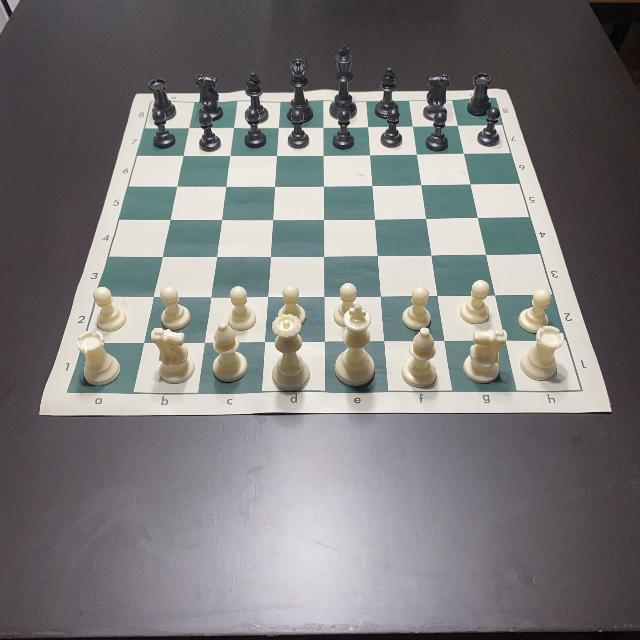black-bishop: (374, 66, 400, 118), (244, 73, 268, 123)
black-king: (328, 44, 358, 120)
black-knight: (194, 73, 224, 121), (422, 72, 450, 121)
black-pawn: (150, 110, 176, 148), (476, 108, 502, 146), (331, 110, 355, 150), (196, 114, 220, 152), (286, 110, 310, 148), (244, 107, 266, 147), (381, 110, 404, 148), (427, 112, 448, 150)
black-queen: (286, 57, 312, 121)
black-rook: (149, 79, 177, 121), (467, 74, 493, 114)
board: (39, 88, 613, 416)
white-bishop: (402, 327, 440, 387), (214, 322, 248, 381)
white-king: (336, 304, 376, 386)
white-knight: (150, 325, 196, 383), (463, 328, 509, 382)
white-pawn: (91, 288, 127, 330), (517, 288, 551, 332), (462, 280, 491, 324), (402, 286, 432, 328), (161, 286, 191, 328), (229, 286, 257, 328), (278, 286, 306, 326), (335, 284, 359, 324)
white-queen: (273, 314, 311, 392)
white-rook: (520, 326, 564, 380), (76, 331, 120, 385)
